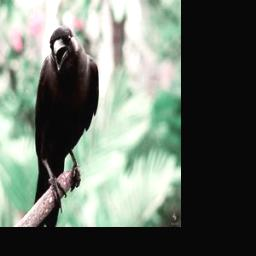Crow: (32, 25, 99, 225)
